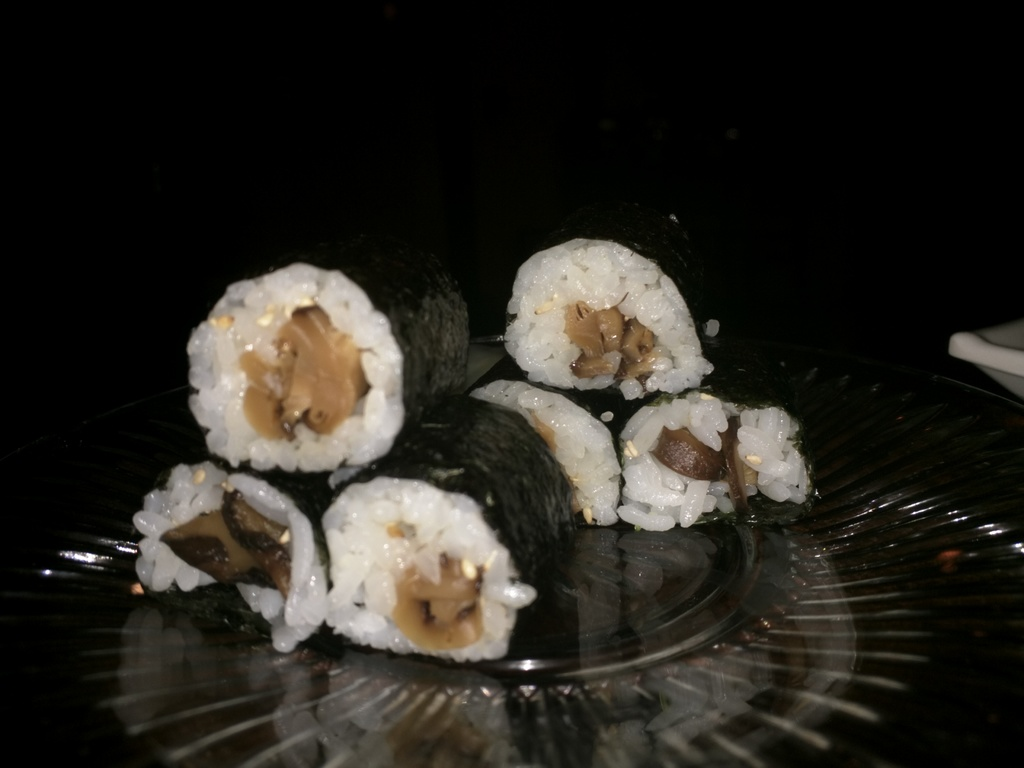sushi: (136, 195, 824, 668), (179, 262, 429, 496)
